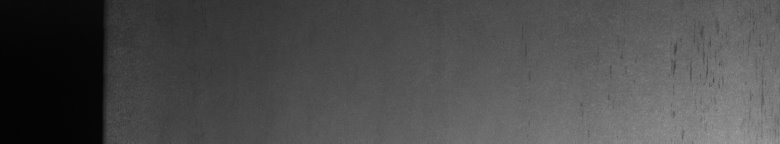ka: (668, 21, 764, 116)
